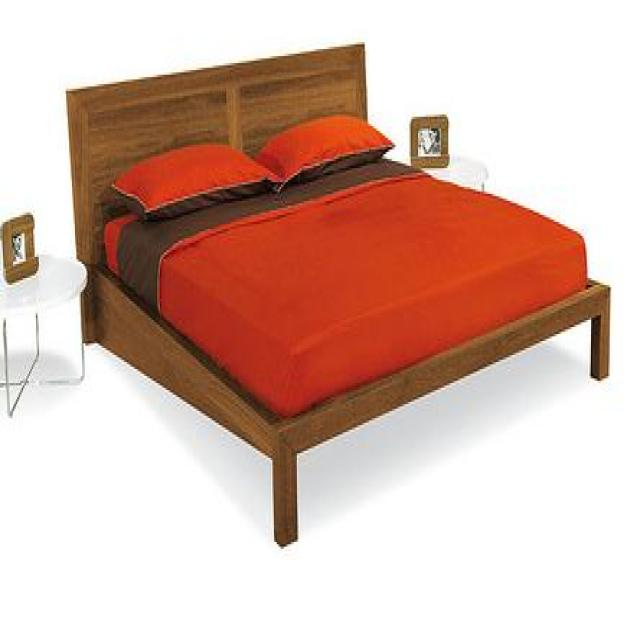bed: (67, 42, 612, 547)
